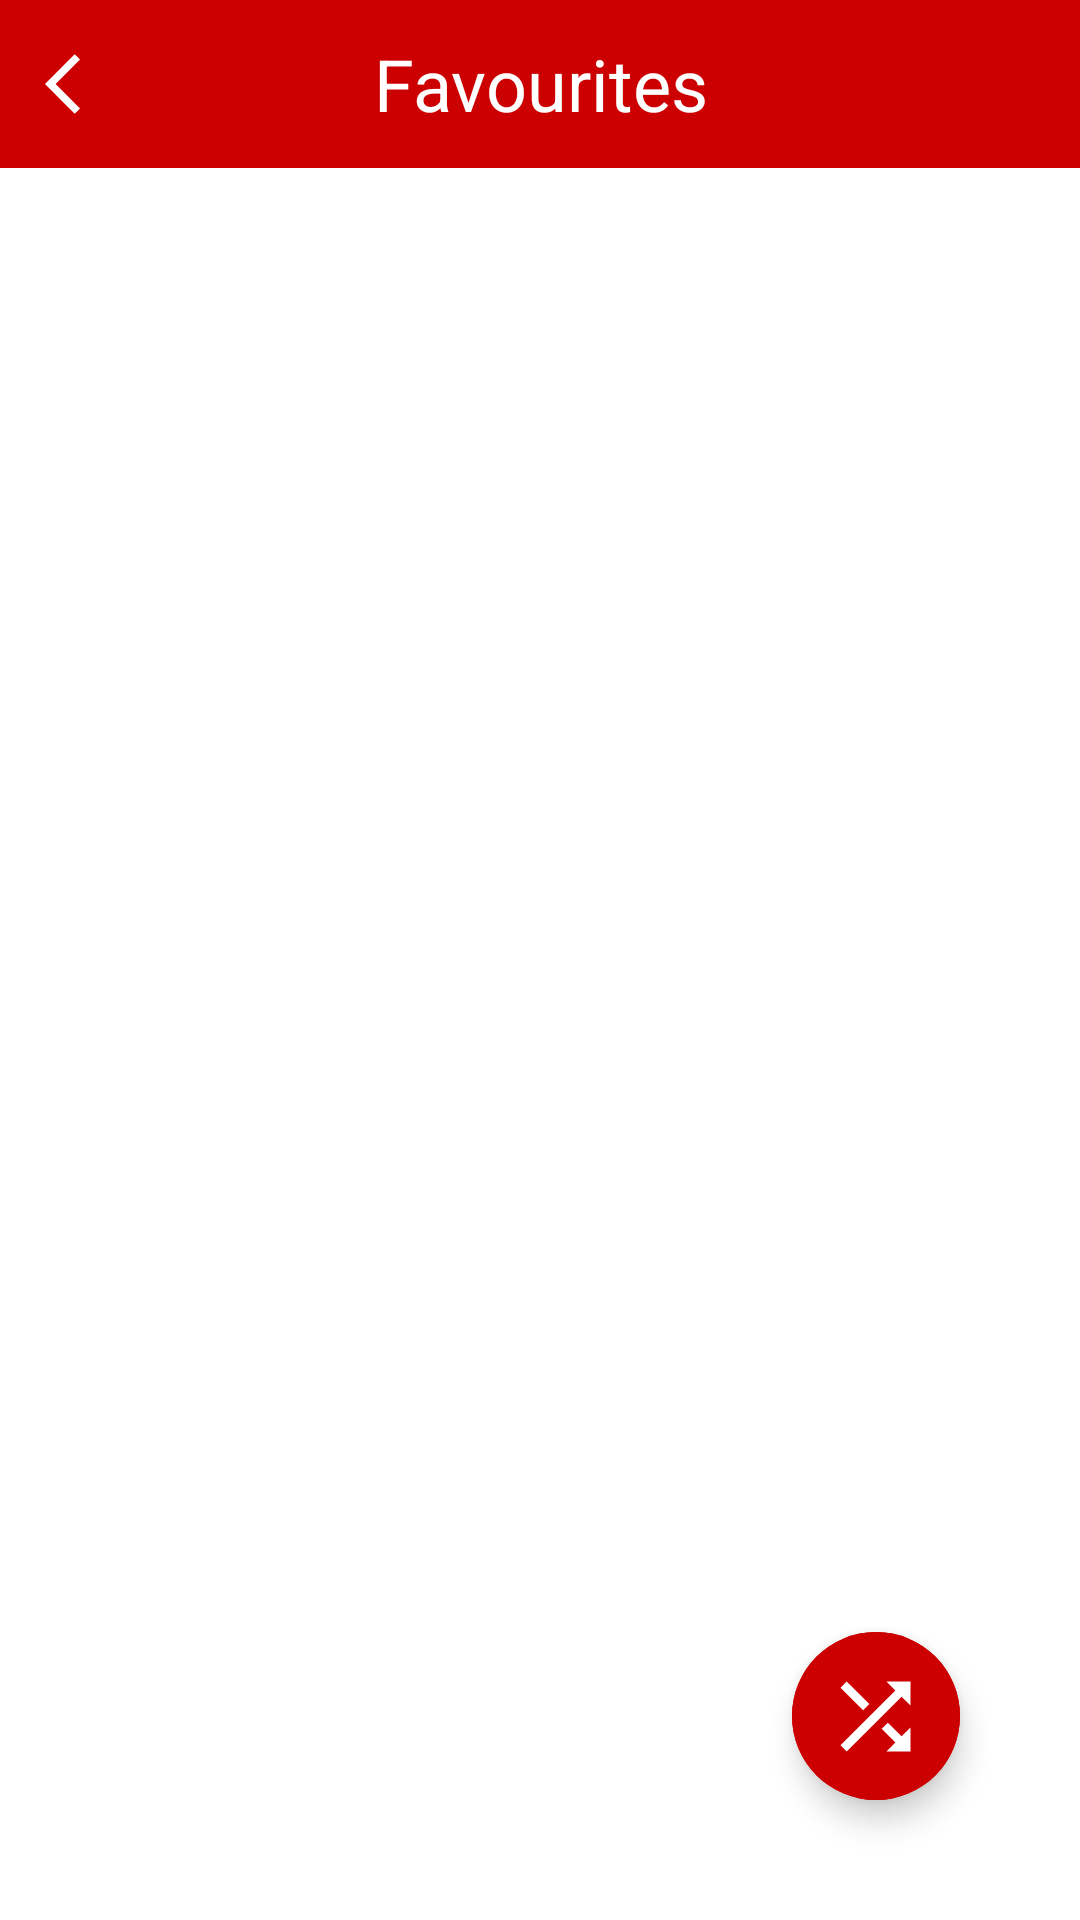

Named icons in this screenshot (1080px×1920px) and their bounding boxes, [x1, y1, x2, y2]:
back: [45, 54, 80, 114]
shuffle: [792, 1632, 960, 1800]
